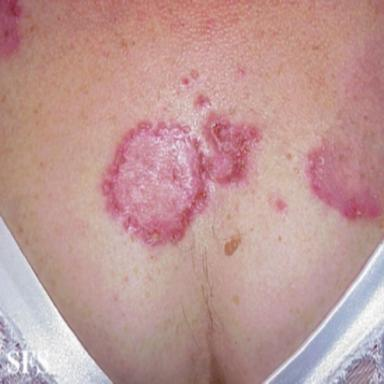Hailey-Hailey-Disease: (101, 112, 261, 245), (306, 141, 382, 219), (0, 1, 26, 70), (194, 94, 211, 109)
